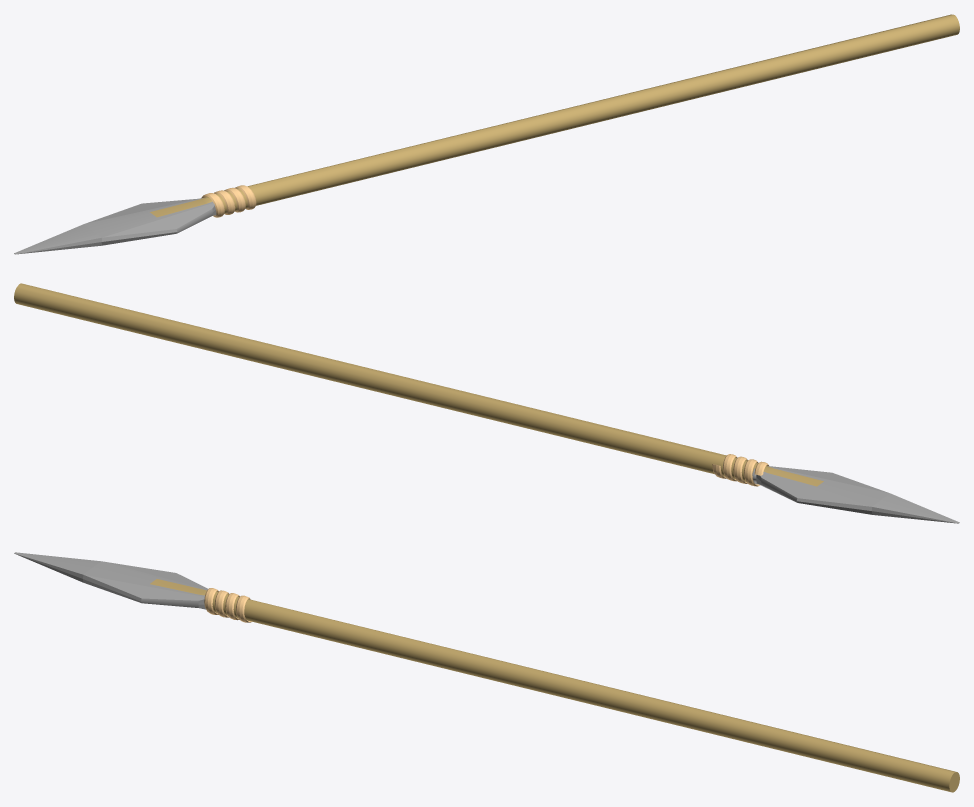
The model's file is Spear.fbx.
The picture shows the model from 3 angles, top to bottom: view 1: azimuth 30°, elevation 25°; view 2: azimuth 150°, elevation 25°; view 3: azimuth 330°, elevation 25°; orthographic projection.
Visible parts, largest first — view 1: Spear; view 2: Spear; view 3: Spear.
Boxes of the visible parts, box(x1,y1,x2,y2) form: Spear: box(14, 14, 959, 254); Spear: box(14, 283, 959, 523); Spear: box(14, 552, 959, 792).
Bounding box in the file's own units: 32.73 × 0.7852 × 2.21.
